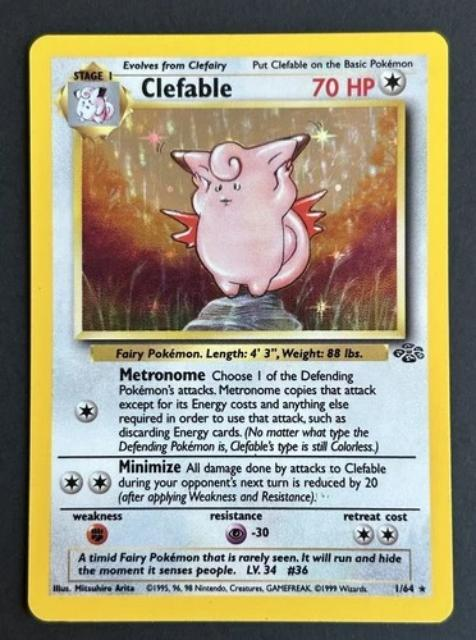Card: (22, 31, 457, 627)
Name: (136, 73, 234, 101)
